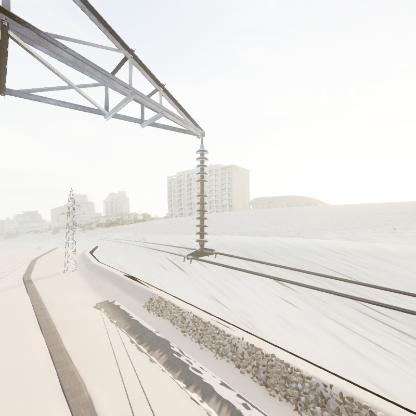insulator: (190, 146, 213, 251)
